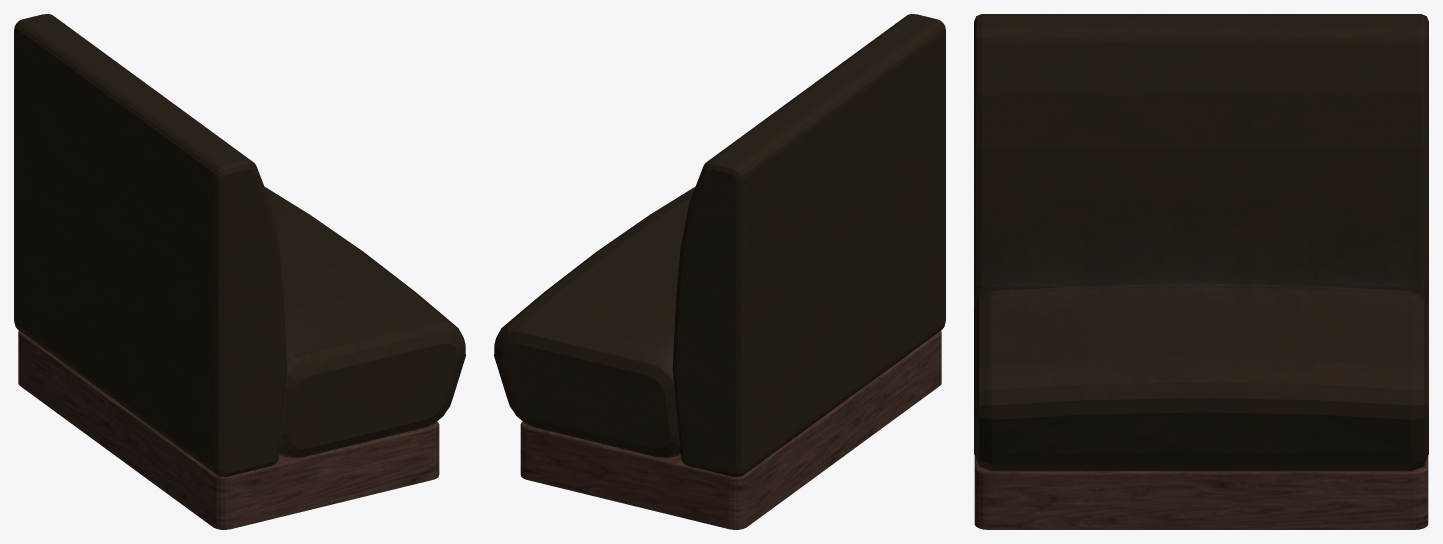
Rendered from asiento2.glb.
3 renders of one model, left to right at view 1: azimuth 30°, elevation 25°; view 2: azimuth 150°, elevation 25°; view 3: azimuth 270°, elevation 25°, orthographic. The views are drawn at different scales.
Parts seen in each view (by area): view 1: Back_Seat_low_Base_id_0; view 2: Back_Seat_low_Base_id_0; view 3: Back_Seat_low_Base_id_0.
Boxes of the visible parts, x1,y1,x2,y2 form: Back_Seat_low_Base_id_0: (14, 14, 465, 529); Back_Seat_low_Base_id_0: (494, 14, 945, 529); Back_Seat_low_Base_id_0: (974, 14, 1428, 529).
Size of the model in its own units: 3.05 by 4.15 by 4.29.
Materials: 1 (1 with a texture image).
